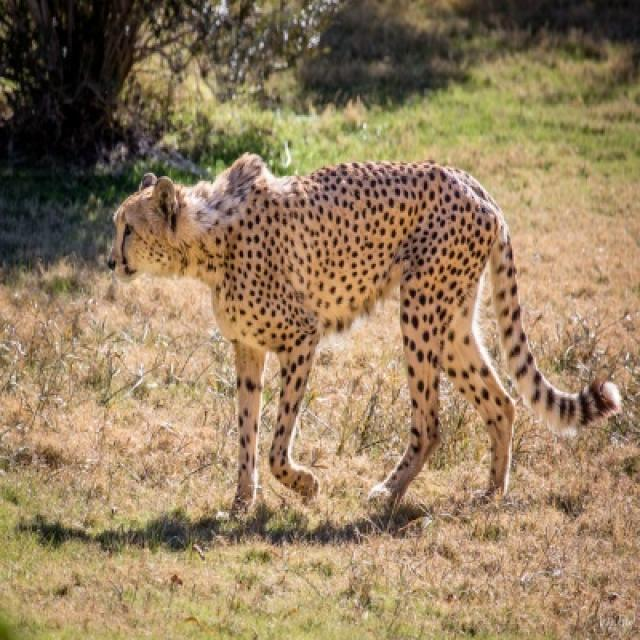Cheetah: (114, 154, 624, 517)
